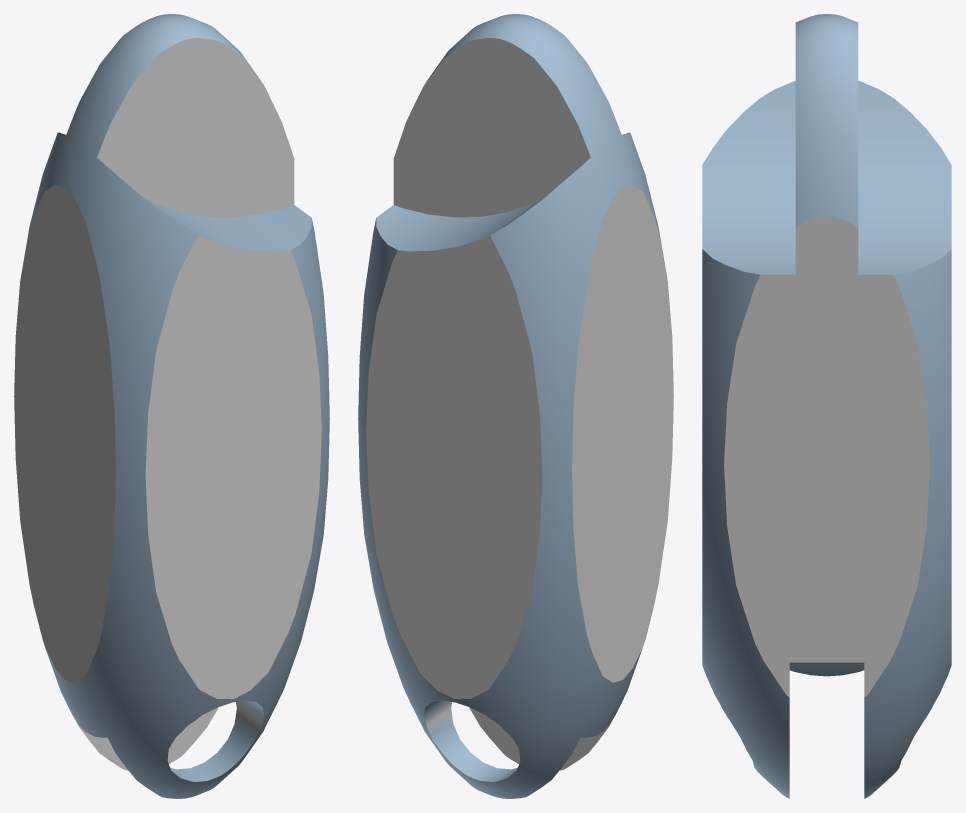
File: phalange8x3.glb
3 views of the same model, side by side, from view 1: azimuth 30°, elevation 25°; view 2: azimuth 150°, elevation 25°; view 3: azimuth 270°, elevation 25° (orthographic).
Bounding box in the file's own units: 0.3 × 1.02 × 0.3.
